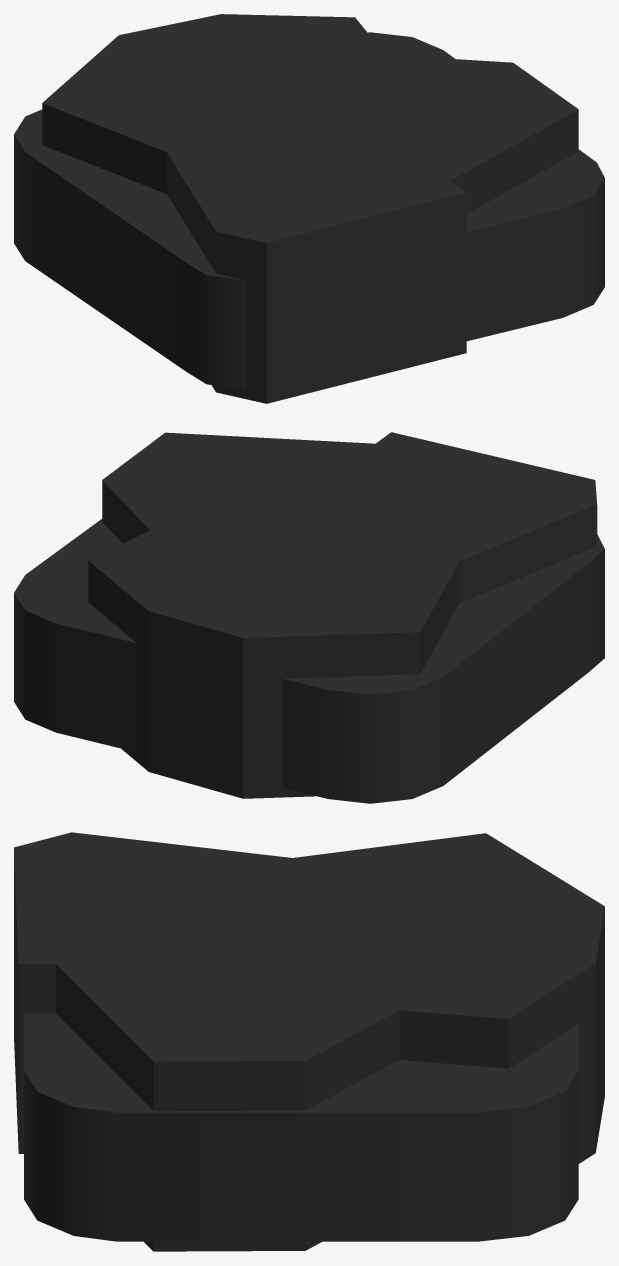
Rendered from tile_1.fbx.
3 views of the same model, one above another, from view 1: azimuth 30°, elevation 25°; view 2: azimuth 150°, elevation 25°; view 3: azimuth 270°, elevation 25° (orthographic). The views are drawn at different scales.
Parts seen in each view (by area): view 1: tile_1; view 2: tile_1; view 3: tile_1.
Boxes of the visible parts, x1,y1,x2,y2 form: tile_1: [14, 14, 604, 403]; tile_1: [14, 432, 604, 803]; tile_1: [14, 832, 604, 1251].
Size of the model in its own units: 0.2326 by 0.0855 by 0.2408.
